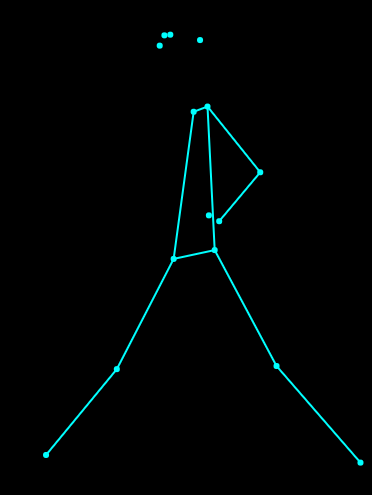warrior_1: (40, 15, 365, 470)
